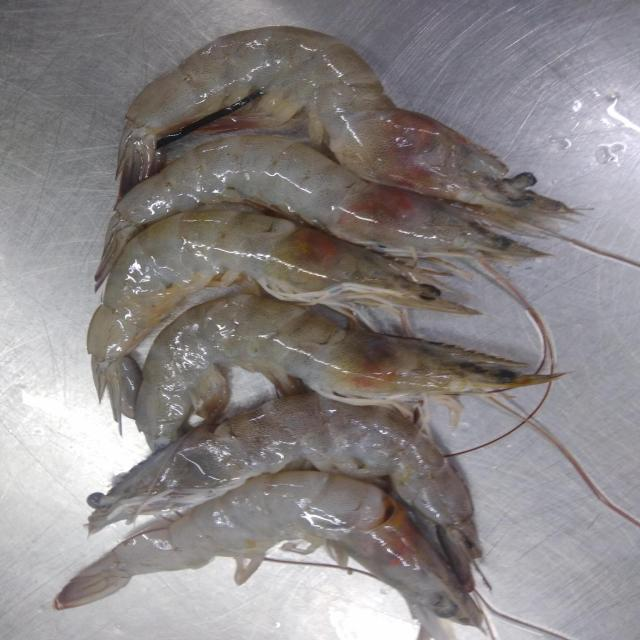shrimp: (117, 25, 574, 225), (53, 471, 484, 640), (135, 294, 561, 451), (86, 393, 477, 561), (87, 210, 480, 364), (111, 135, 547, 264)
